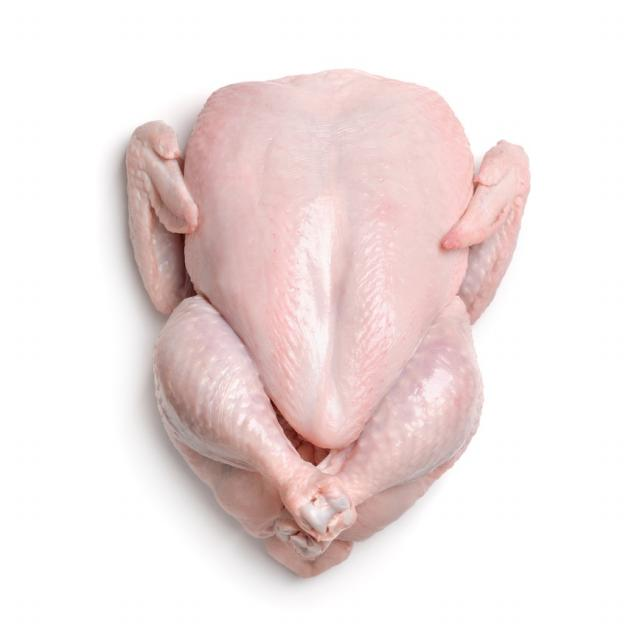Chicken: (124, 75, 530, 578)
